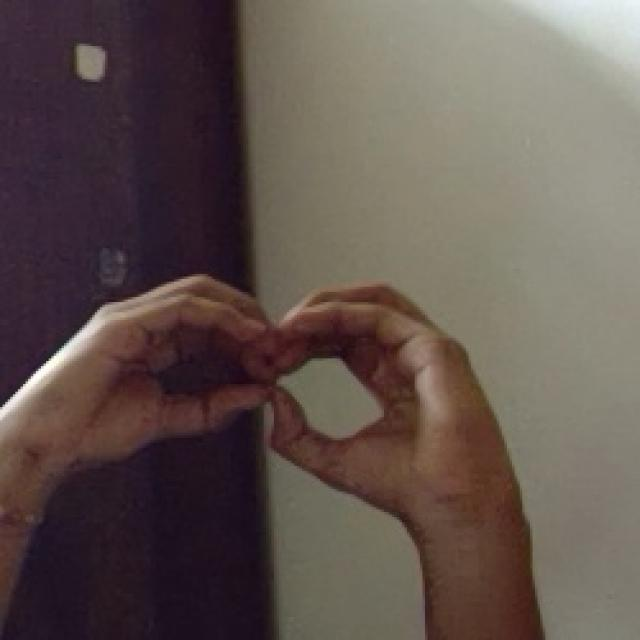Alphabet-B: (19, 257, 512, 506)
